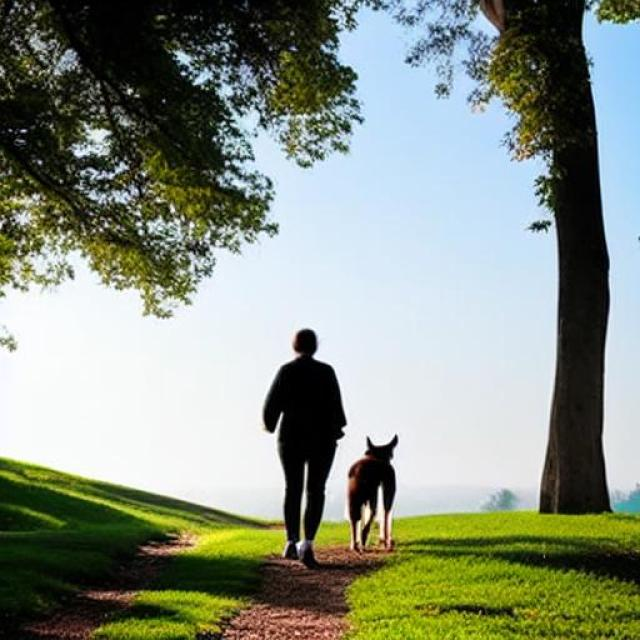Unleashed_Dog: (278, 431, 398, 552)
